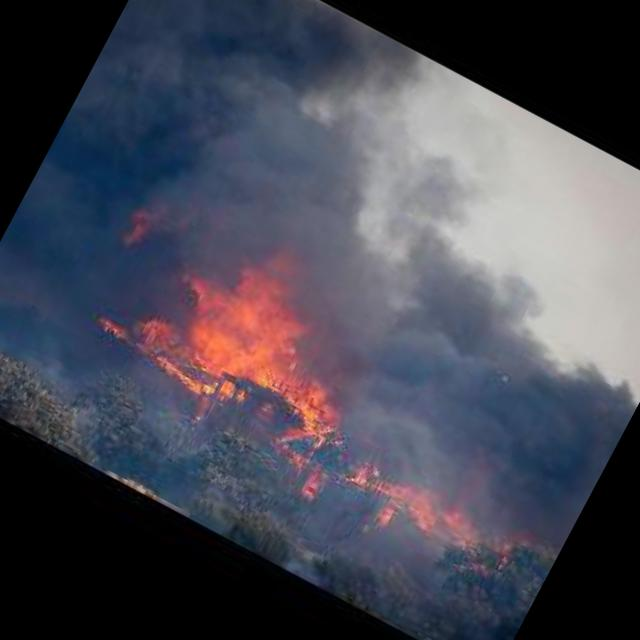fire: (57, 161, 413, 469), (341, 439, 514, 566)
smoke: (322, 168, 640, 552)
